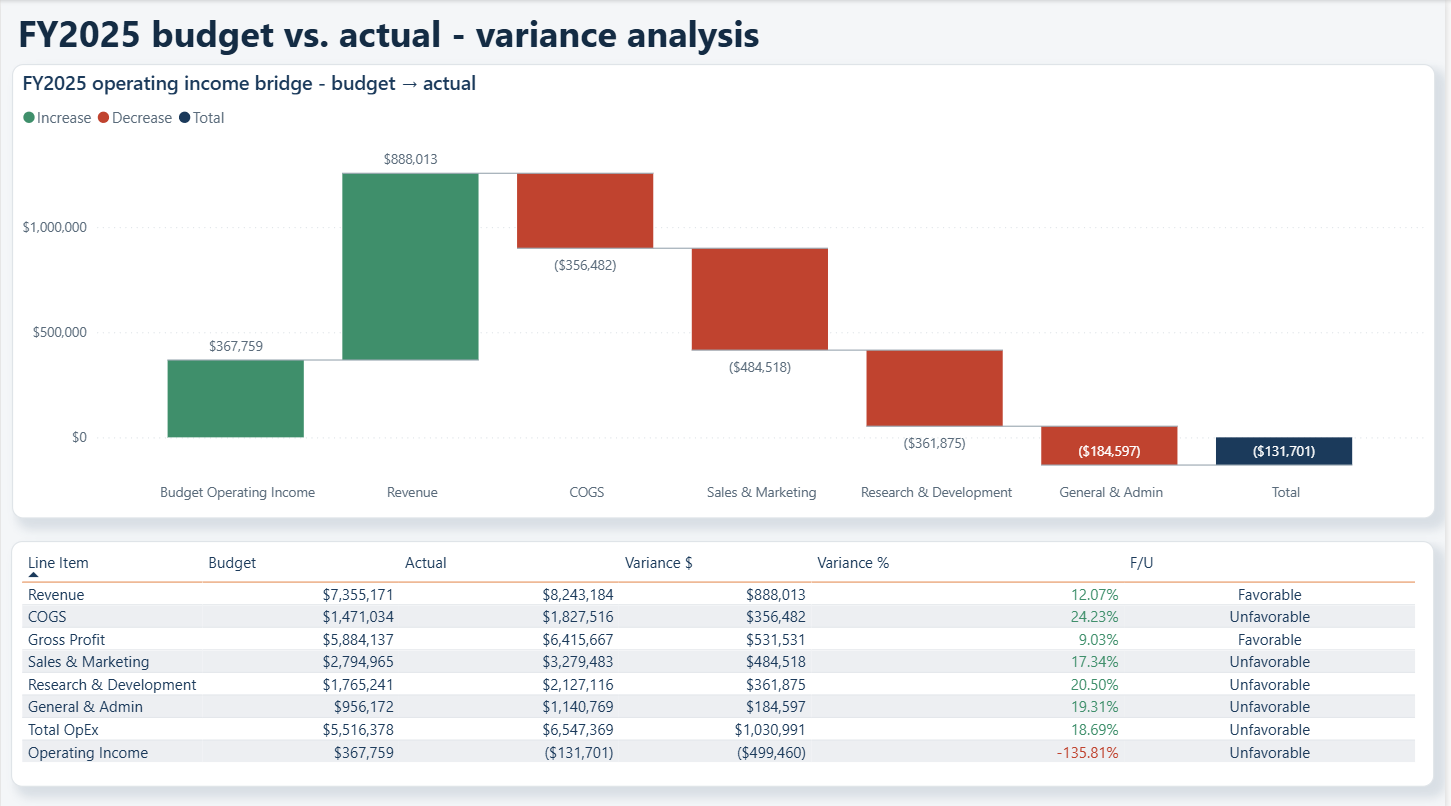

This screenshot's page, from the dashboard's own definition file:
{"tool":"powerbi","page":{"name":"Waterfall Variance","canvas":[1280,720],"ordinal":1},"visuals":[{"type":"textbox","box":[9.7,6.8,1261.5,49.6],"z":0},{"type":"waterfallChart","title":"FY2025 operating income bridge - budget → actual","fields":{"Category":["dashboard_bridge.label"],"Y":["Sum(dashboard_bridge.amount)"]},"box":[9.7,56.4,1262.5,402.7],"z":1000},{"type":"tableEx","fields":{"Values":["Summary.Line Item","Summary.Budget","Summary.Actual","Summary.Variance $","Summary.Variance %","Summary.F/U"]},"box":[8.8,479.5,1262.5,217.9],"z":2000}]}

Visuals, with their boxes in screenshot pixels (x1, y1, x2, y2), scaled from the page's 1280x720 canvas onto the 1451x806 screenshot:
textbox: rect(11, 8, 1441, 63)
"FY2025 operating income bridge - budget → actual" waterfallChart: rect(11, 63, 1442, 514)
tableEx - Summary.Line Item x Summary.Budget: rect(10, 537, 1441, 781)
